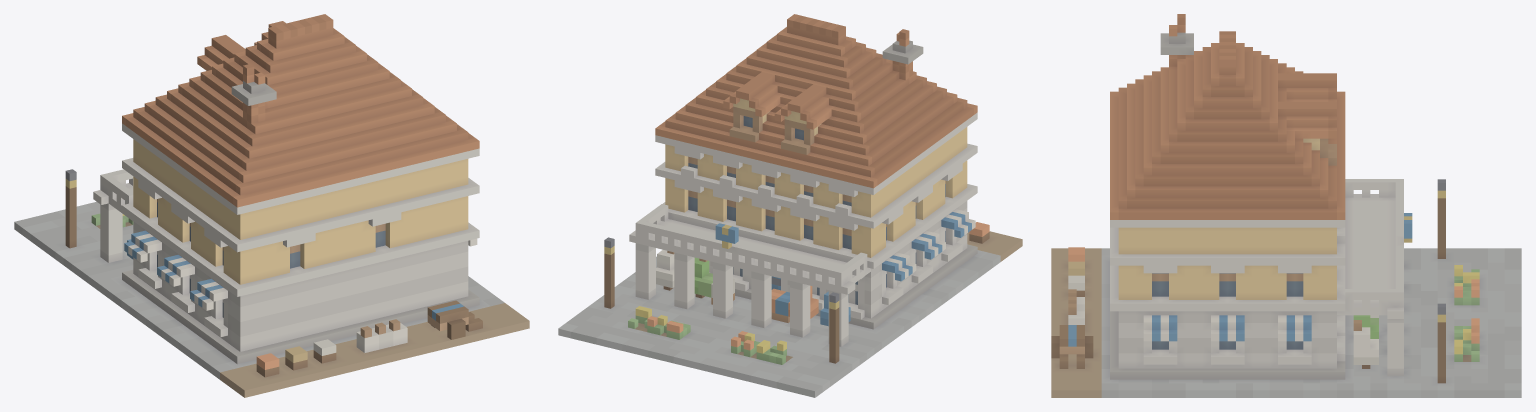
The model's file is fashion_house.glb.
The picture shows the model from 3 angles, left to right: view 1: azimuth 30°, elevation 25°; view 2: azimuth 150°, elevation 25°; view 3: azimuth 270°, elevation 25°; orthographic projection. The views are drawn at different scales.
Parts seen in each view (by area): view 1: fashion_house; view 2: fashion_house; view 3: fashion_house.
Part boxes in pixels (x1,y1,x2,y2): fashion_house: [14, 14, 529, 397]; fashion_house: [558, 14, 1022, 397]; fashion_house: [1051, 14, 1521, 397].
Bounding box in the file's own units: 5 × 4.62 × 7.
